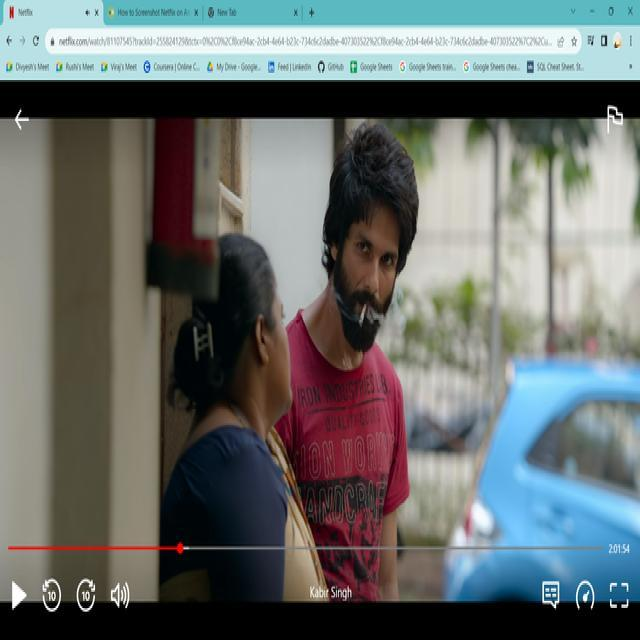smoking: (356, 297, 369, 331)
